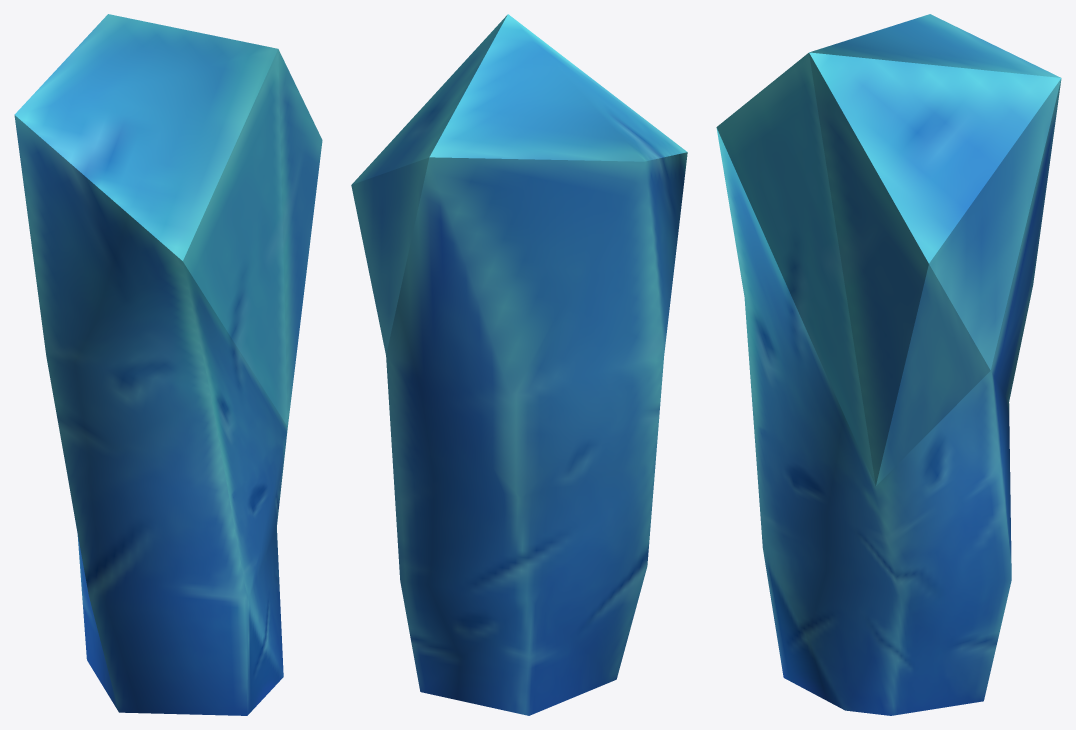
File: crystal_1.fbx
The picture shows the model from 3 angles, left to right: view 1: azimuth 30°, elevation 25°; view 2: azimuth 150°, elevation 25°; view 3: azimuth 270°, elevation 25°; orthographic projection. The views are drawn at different scales.
Visible parts, largest first — view 1: crystal_1; view 2: crystal_1; view 3: crystal_1.
Part boxes in pixels (x1=…): crystal_1: x1=14, y1=14, x2=322, y2=715; crystal_1: x1=351, y1=14, x2=687, y2=715; crystal_1: x1=716, y1=14, x2=1061, y2=715.
Size of the model in its own units: 0.4369 by 0.8787 by 0.4249.
